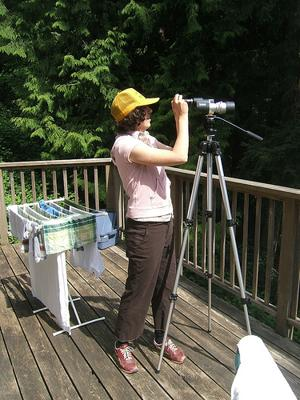person: (110, 86, 191, 373)
